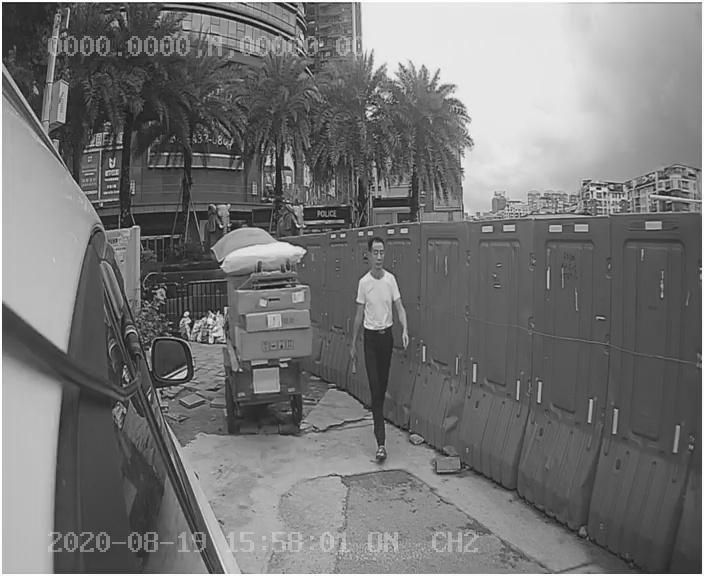person: (341, 238, 426, 468)
